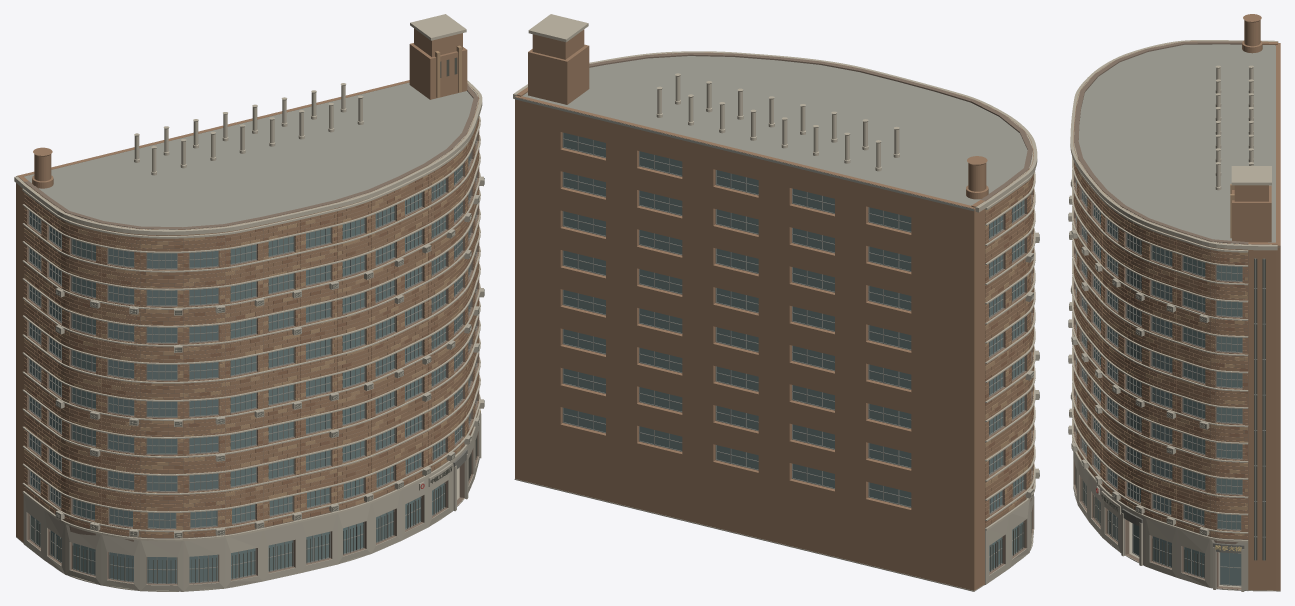
Rendered from jingan-yates-apartments-web.glb.
3 renders of one model, left to right at view 1: azimuth 30°, elevation 25°; view 2: azimuth 150°, elevation 25°; view 3: azimuth 270°, elevation 25°, orthographic. The views are drawn at different scales.
Parts seen in each view (by area): view 1: 同孚大楼（中国银行西区分行旧址）; view 2: 同孚大楼（中国银行西区分行旧址）; view 3: 同孚大楼（中国银行西区分行旧址）.
Boxes of the visible parts, box(x1,y1,x2,y2) form: 同孚大楼（中国银行西区分行旧址）: box(14, 14, 484, 591); 同孚大楼（中国银行西区分行旧址）: box(513, 14, 1039, 591); 同孚大楼（中国银行西区分行旧址）: box(1068, 14, 1280, 591).
Bounding box in the file's own units: 37.82 × 34.44 × 16.39.
